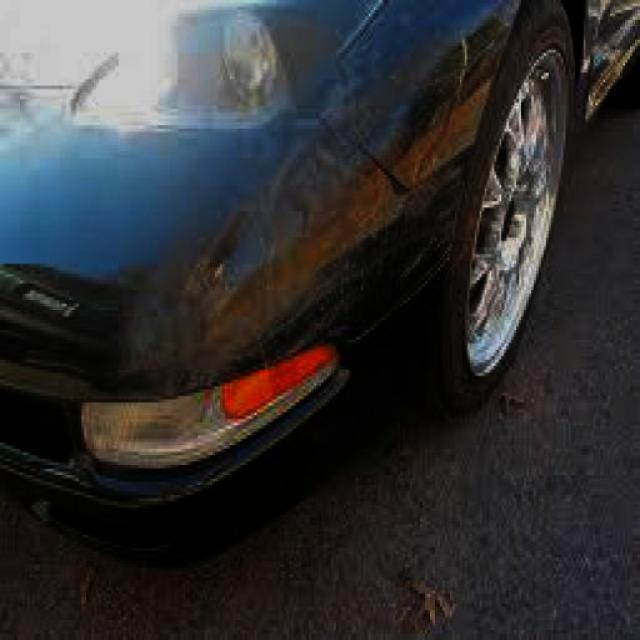car damage: (125, 21, 497, 399)
